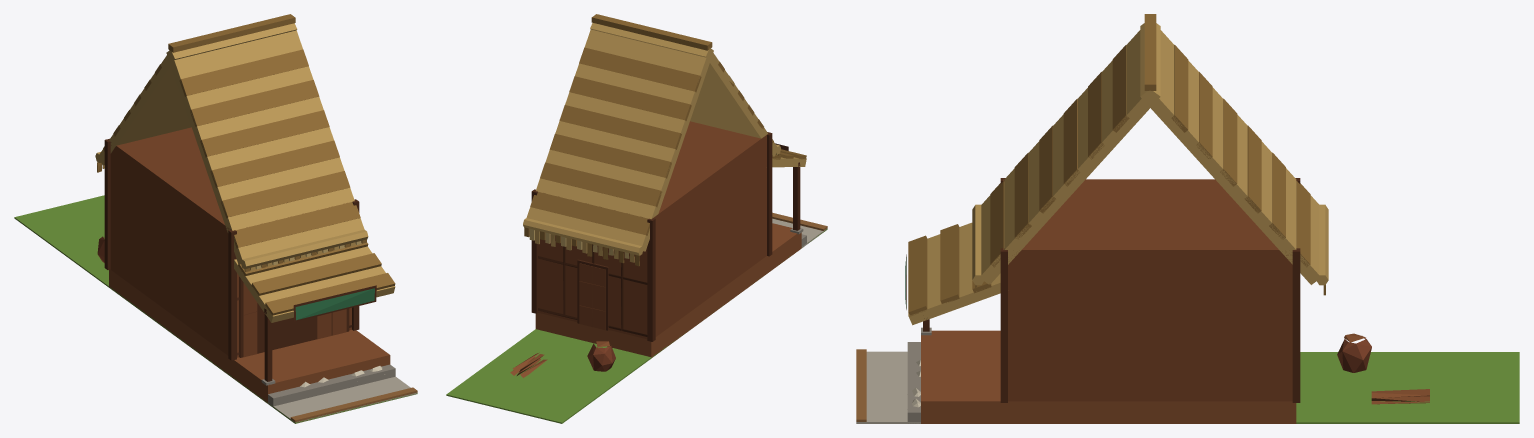
Rendered from bay2_mid2.glb.
The picture shows the model from 3 angles, left to right: view 1: azimuth 30°, elevation 25°; view 2: azimuth 150°, elevation 25°; view 3: azimuth 270°, elevation 25°; orthographic projection. The views are drawn at different scales.
Parts seen in each view (by area): view 1: body; view 2: body; view 3: body.
Part boxes in pixels (left/top/right/bottom): body: left=14, top=14, right=417, bottom=423; body: left=446, top=14, right=827, bottom=423; body: left=856, top=14, right=1519, bottom=423.
Size of the model in its own units: 4.18 by 8.98 by 15.9.
